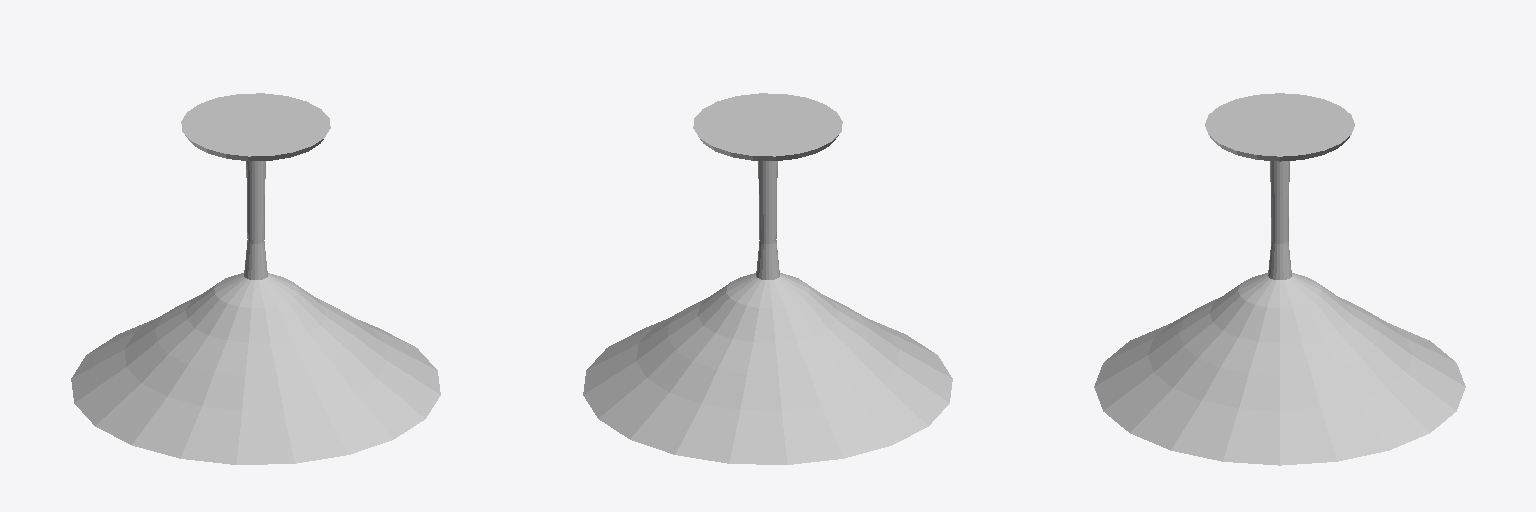
File: martini glass.obj
3 views of the same model, side by side, from view 1: azimuth 30°, elevation 25°; view 2: azimuth 150°, elevation 25°; view 3: azimuth 270°, elevation 25° (orthographic).
Visible parts, largest first — view 1: pCylinder1; view 2: pCylinder1; view 3: pCylinder1.
Boxes of the visible parts, x1=… form: pCylinder1: x1=71, y1=93, x2=440, y2=464; pCylinder1: x1=583, y1=93, x2=952, y2=464; pCylinder1: x1=1094, y1=93, x2=1465, y2=465.
Size of the model in its own units: 1.33 by 1.04 by 1.33.